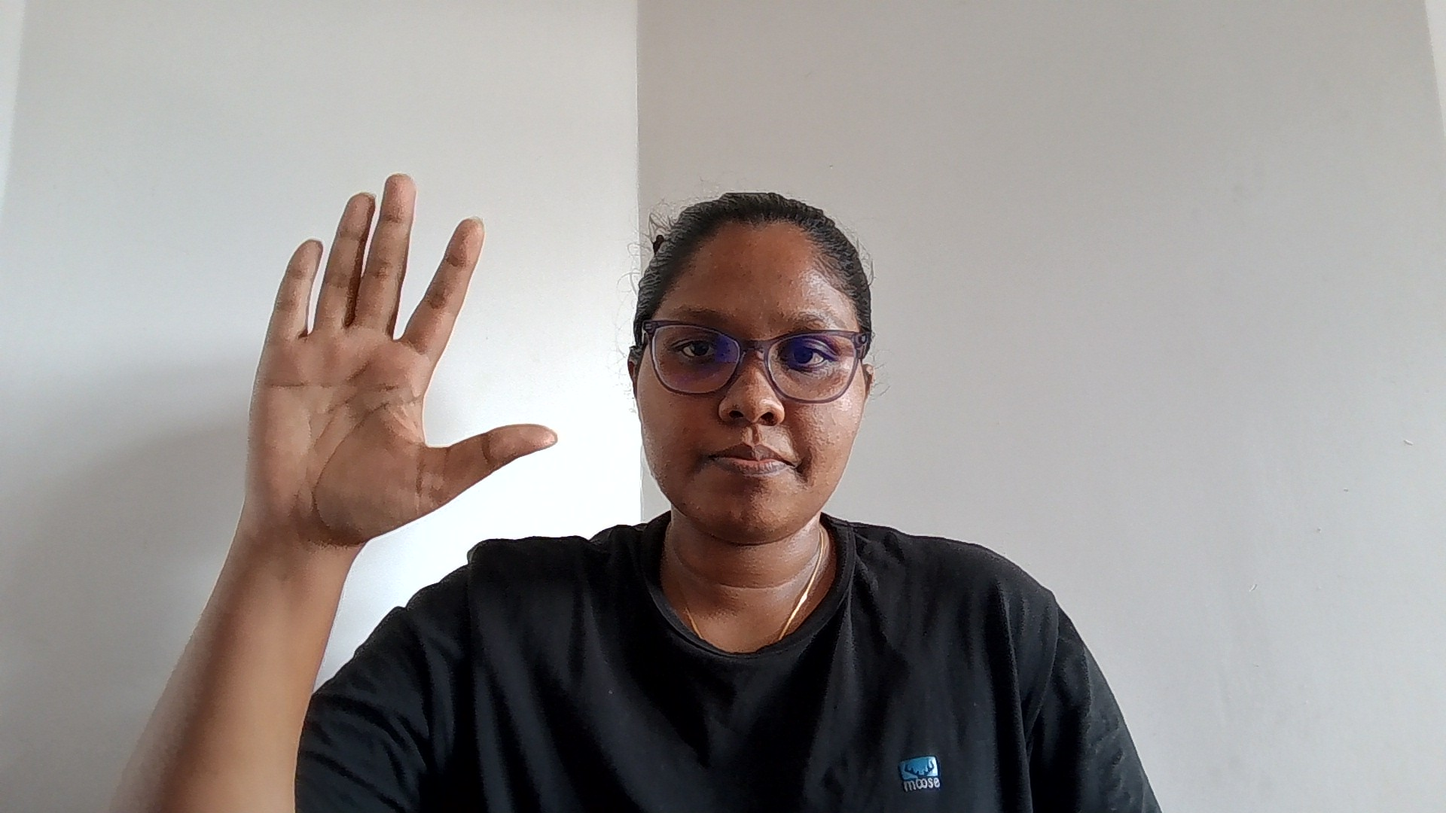Hello: (239, 146, 585, 592)
